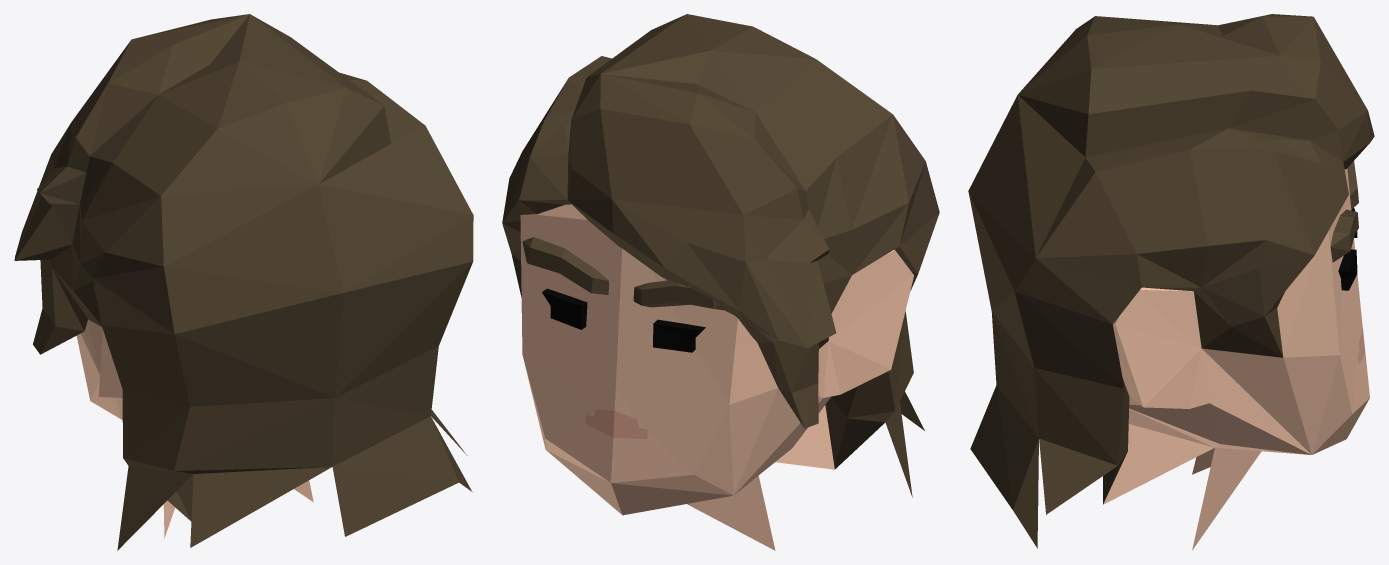
Rendered from Head.obj.
3 views of the same model, side by side, from view 1: azimuth 30°, elevation 25°; view 2: azimuth 150°, elevation 25°; view 3: azimuth 270°, elevation 25° (orthographic). The views are drawn at different scales.
Size of the model in its own units: 0.2905 by 0.364 by 0.2759.
Materials: 1 (1 with a texture image).
